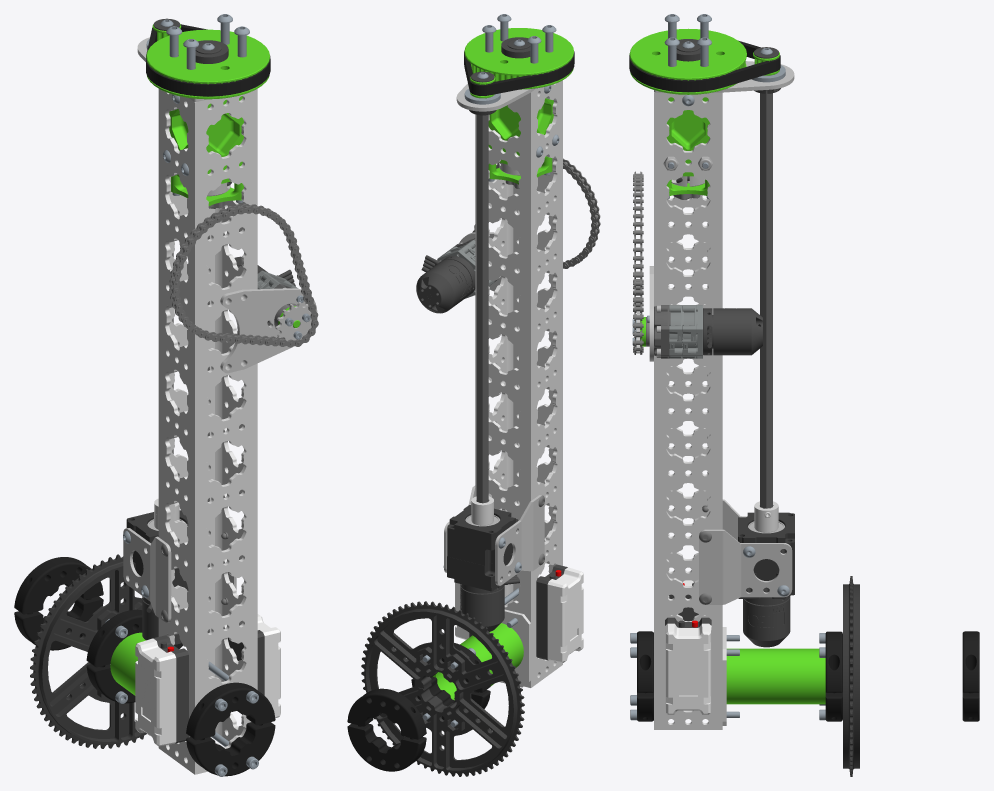
3 views of the same model, side by side, from view 1: azimuth 30°, elevation 25°; view 2: azimuth 150°, elevation 25°; view 3: azimuth 270°, elevation 25° (orthographic). The views are drawn at different scales.
Visible parts, largest first — view 1: 301 Arm Tube, #25 Billet Sprocket - 72T (REV-21-3386), Simplified SPARK MAX, 308 Wrist 1 Drive Pulley, 901 Motor Mounting Plate, 302-0 Arm Wrist 1 VP Mount Plate, REV-21-2581.003, REV-21-2581.002, REV-21-2581.007, Simplified SPARK MAX.001, 60 Tooth x 9mm HTD5 Belt, 306 Arm End Plug (+8 smaller); view 2: 301 Arm Tube, #25 Billet Sprocket - 72T (REV-21-3386), 305 3/8" Wrist 1 Hex Shaft, Simplified SPARK MAX, 308 Wrist 1 Drive Pulley, NEO 550 Motor (REV-21-1651).002, 302-0 Arm Wrist 1 VP Mount Plate, REV-21-2581.007, REV-21-2581.004, VersaPlanetary Output Block (217-2625), NEO 550 Motor (REV-21-1651), 60 Tooth x 9mm HTD5 Belt (+8 smaller); view 3: 301 Arm Tube, 235 MAXSPLINE_C Hex Spacer, 305 3/8" Wrist 1 Hex Shaft, 302-1 Arm Wrist 1 VP Mount Plate Mirrored, Simplified SPARK MAX.001, 308 Wrist 1 Drive Pulley, #25 Billet Sprocket - 72T (REV-21-3386), NEO 550 Motor (REV-21-1651).002, 60 Tooth x 9mm HTD5 Belt, NEO 550 Motor (REV-21-1651), 306 Arm End Plug, VersaPlanetary Output Block (217-2625) (+6 smaller).
Part boxes in pixels (<box>): 301 Arm Tube: <box>158,89,257,774</box>; #25 Billet Sprocket - 72T (REV-21-3386): <box>30,554,149,748</box>; Simplified SPARK MAX: <box>135,635,188,746</box>; 308 Wrist 1 Drive Pulley: <box>146,29,269,99</box>; 901 Motor Mounting Plate: <box>220,288,317,373</box>; 302-0 Arm Wrist 1 VP Mount Plate: <box>123,528,171,622</box>; REV-21-2581.003: <box>186,682,275,740</box>; REV-21-2581.002: <box>186,722,275,776</box>; REV-21-2581.007: <box>14,557,103,614</box>; Simplified SPARK MAX.001: <box>228,614,280,717</box>; 60 Tooth x 9mm HTD5 Belt: <box>146,24,270,96</box>; 306 Arm End Plug: <box>169,96,243,183</box>; 301 Arm Tube: <box>475,80,562,687</box>; #25 Billet Sprocket - 72T (REV-21-3386): <box>361,601,524,776</box>; 305 3/8" Wrist 1 Hex Shaft: <box>476,115,488,503</box>; Simplified SPARK MAX: <box>536,564,583,662</box>; 308 Wrist 1 Drive Pulley: <box>464,28,573,89</box>; NEO 550 Motor (REV-21-1651).002: <box>416,255,475,313</box>; 302-0 Arm Wrist 1 VP Mount Plate: <box>495,495,544,585</box>; REV-21-2581.007: <box>347,688,426,739</box>; REV-21-2581.004: <box>347,723,426,771</box>; VersaPlanetary Output Block (217-2625): <box>447,505,518,551</box>; NEO 550 Motor (REV-21-1651): <box>460,575,519,631</box>; 60 Tooth x 9mm HTD5 Belt: <box>464,51,574,95</box>; 301 Arm Tube: <box>654,92,722,729</box>; 235 MAXSPLINE_C Hex Spacer: <box>726,648,825,704</box>; 305 3/8" Wrist 1 Hex Shaft: <box>760,90,772,508</box>; 302-1 Arm Wrist 1 VP Mount Plate Mirrored: <box>699,529,792,604</box>; Simplified SPARK MAX.001: <box>665,617,711,714</box>; 308 Wrist 1 Drive Pulley: <box>629,28,746,94</box>; #25 Billet Sprocket - 72T (REV-21-3386): <box>843,576,859,776</box>; NEO 550 Motor (REV-21-1651).002: <box>703,308,762,355</box>; 60 Tooth x 9mm HTD5 Belt: <box>629,40,780,92</box>; NEO 550 Motor (REV-21-1651): <box>743,596,790,647</box>; 306 Arm End Plug: <box>666,97,709,176</box>; VersaPlanetary Output Block (217-2625): <box>738,512,794,557</box>.
Bounding box in the file's own units: 0.1538 × 0.6048 × 0.2597.
